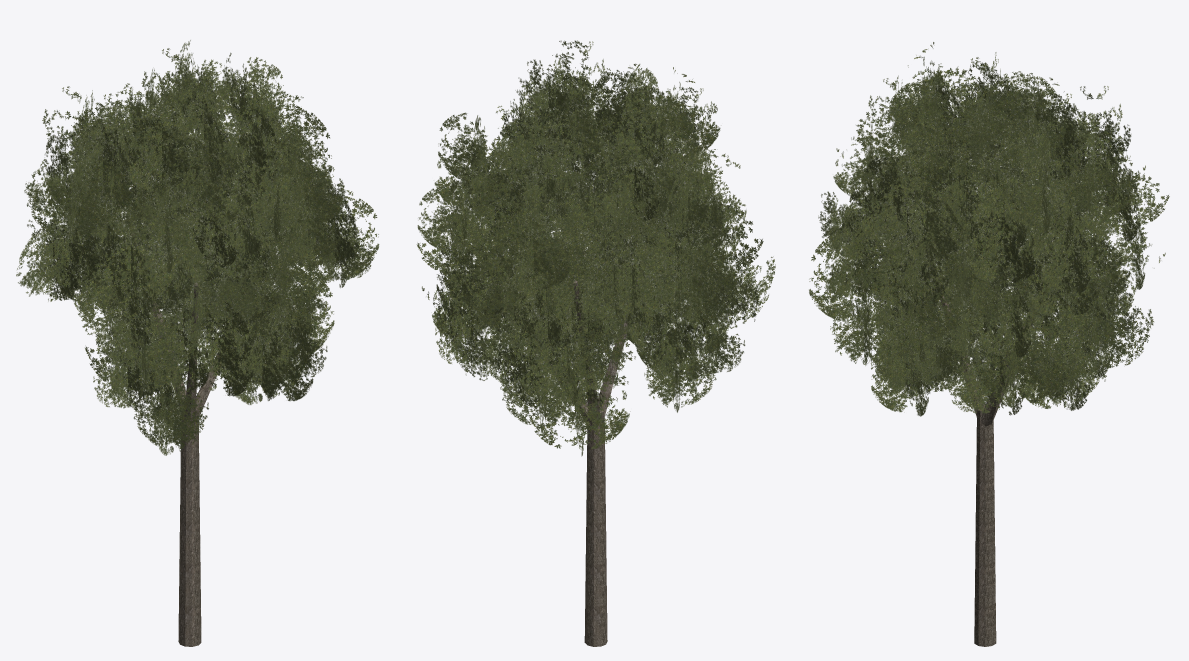
Rendered from tree-tall.glb.
3 renders of one model, left to right at view 1: azimuth 30°, elevation 25°; view 2: azimuth 150°, elevation 25°; view 3: azimuth 270°, elevation 25°, orthographic.
Visible parts, largest first — view 1: TreeTall; view 2: TreeTall; view 3: TreeTall.
Part boxes in pixels (x1,y1,x2,y2): TreeTall: (16, 40, 379, 646); TreeTall: (416, 40, 775, 646); TreeTall: (809, 42, 1169, 646).
Bounding box in the file's own units: 6.27 × 11.25 × 6.41.
4 materials, 4 textured.
